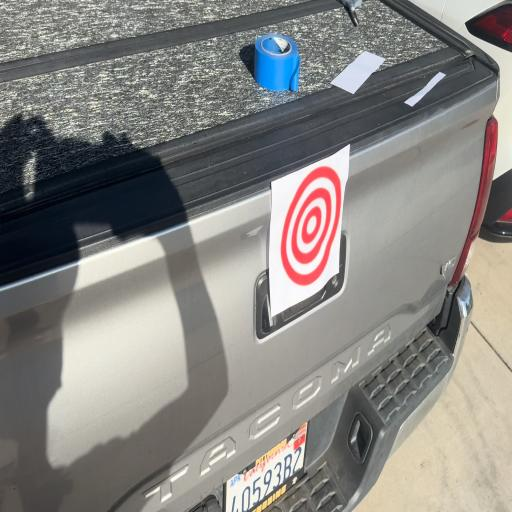bullseye: (278, 145, 349, 314)
